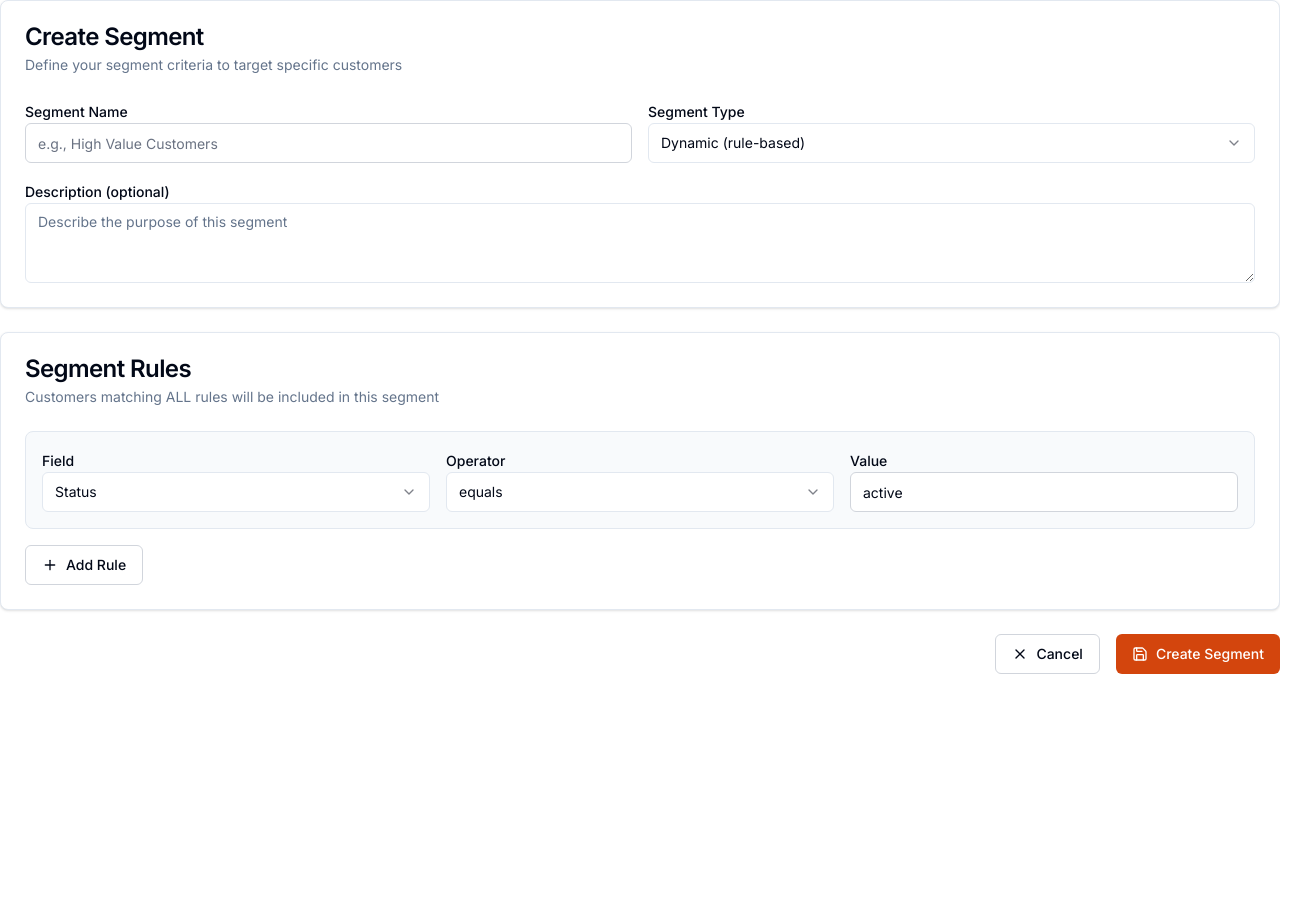
it: SegmentBuilder Component › should add new rule when Add Rule clicked
Click the button "Add Rule" at (84, 565), box x1=25 y1=545 x2=143 y2=585
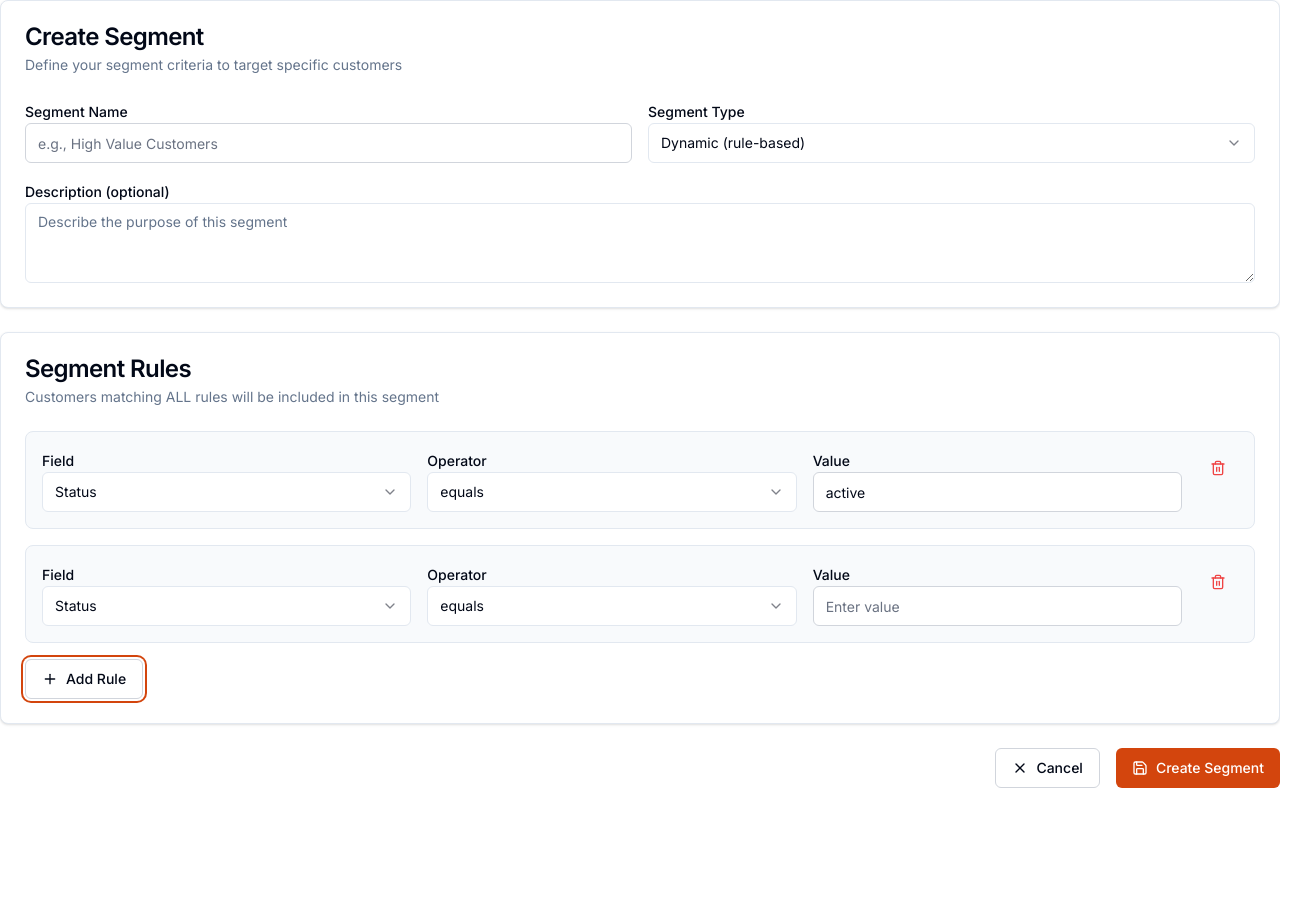
Expected: the text "Field" is shown 2 times, x1=42 y1=452 x2=74 y2=469; x1=42 y1=566 x2=74 y2=583
